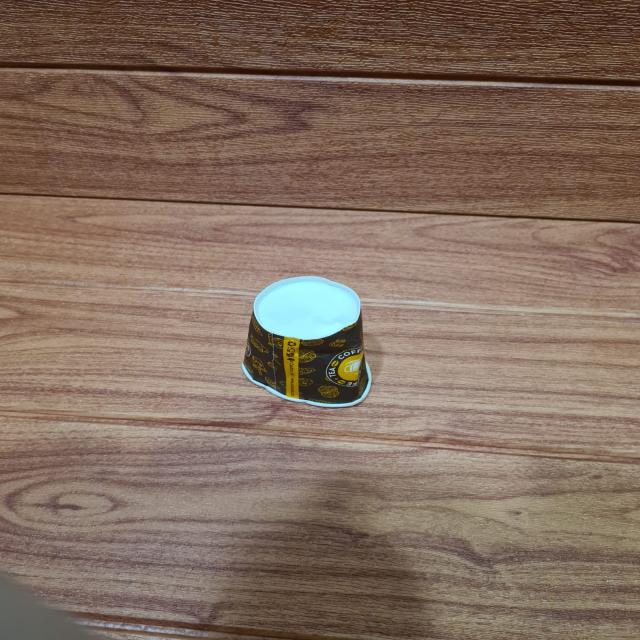cups: (236, 274, 382, 406)
